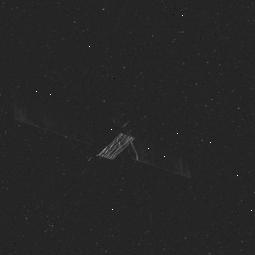smart_1: (17, 103, 193, 177)
